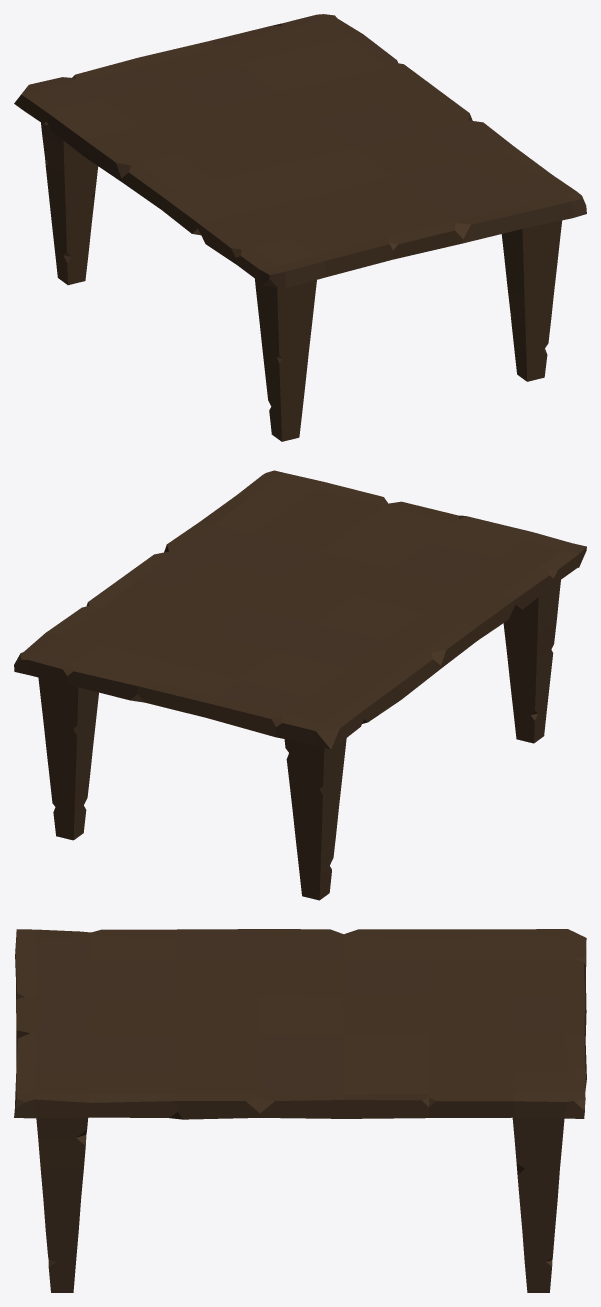
File: table.fbx
3 renders of one model, top to bottom at view 1: azimuth 30°, elevation 25°; view 2: azimuth 150°, elevation 25°; view 3: azimuth 270°, elevation 25°, orthographic. The views are drawn at different scales.
Parts seen in each view (by area): view 1: tabletop, tabelleg4, tabelleg3, tabelleg1; view 2: tabletop, tabelleg1, tabelleg2, tabelleg4; view 3: tabletop, tabelleg3, tabelleg2.
Boxes of the visible parts, x1,y1,x2,y2 form: tabletop: [14, 14, 586, 288]; tabelleg4: [255, 279, 316, 441]; tabelleg3: [501, 220, 562, 381]; tabelleg1: [41, 122, 98, 285]; tabletop: [14, 470, 586, 749]; tabelleg1: [284, 738, 346, 900]; tabelleg2: [38, 677, 98, 840]; tabelleg4: [503, 580, 560, 743]; tabletop: [14, 929, 586, 1119]; tabelleg3: [36, 1117, 88, 1292]; tabelleg2: [512, 1117, 564, 1292].
Size of the model in its own units: 311 by 174 by 435.
